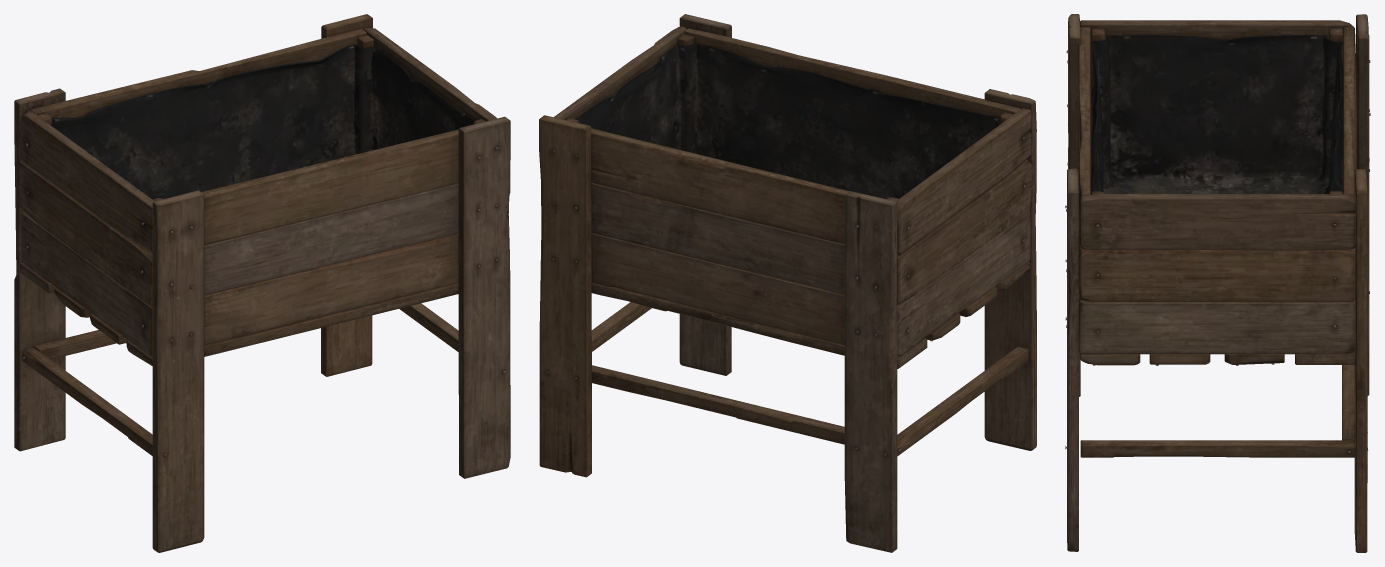
File: planter_box_03.glb
3 renders of one model, left to right at view 1: azimuth 30°, elevation 25°; view 2: azimuth 150°, elevation 25°; view 3: azimuth 270°, elevation 25°, orthographic. The views are drawn at different scales.
Parts seen in each view (by area): view 1: planter_box_03; view 2: planter_box_03; view 3: planter_box_03.
Part boxes in pixels (bbox=[...]): planter_box_03: bbox=[14, 14, 510, 552]; planter_box_03: bbox=[539, 14, 1036, 552]; planter_box_03: bbox=[1065, 14, 1370, 552].
Bounding box in the file's own units: 0.9143 × 0.8552 × 0.6556.
Materials: 1 (1 with a texture image).
